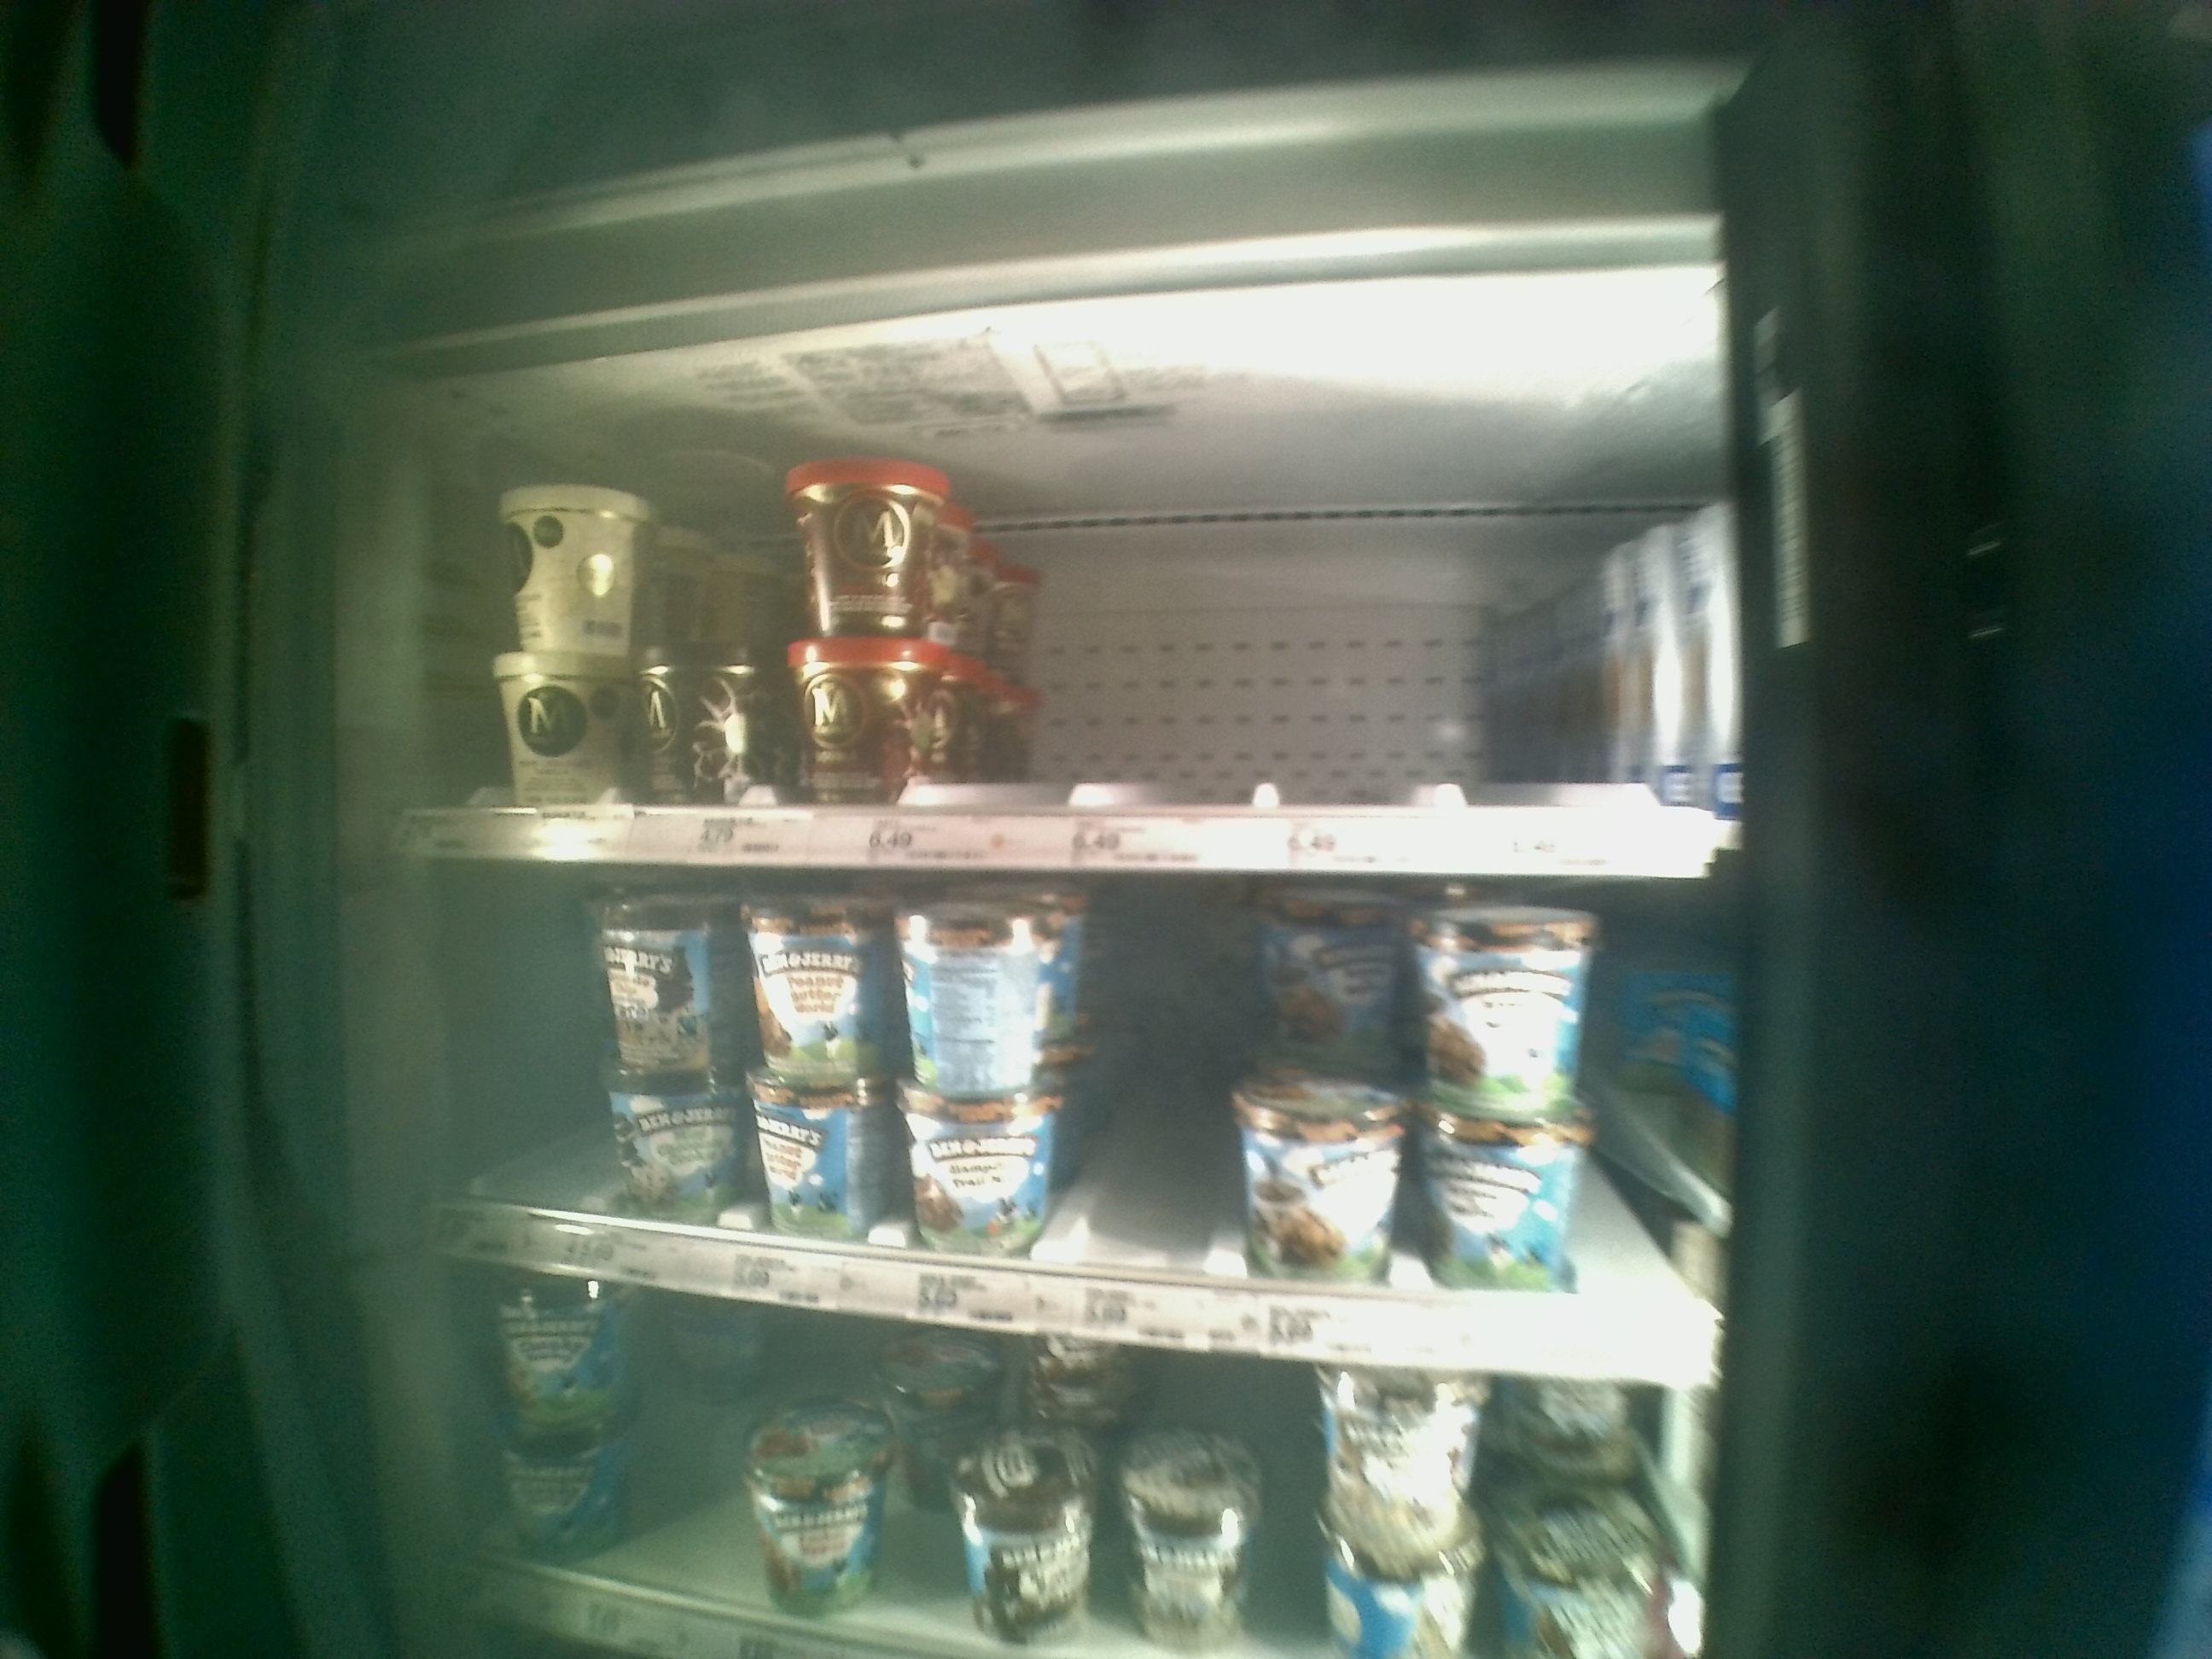shelf: (394, 863, 1731, 1399), (409, 376, 1754, 873)
